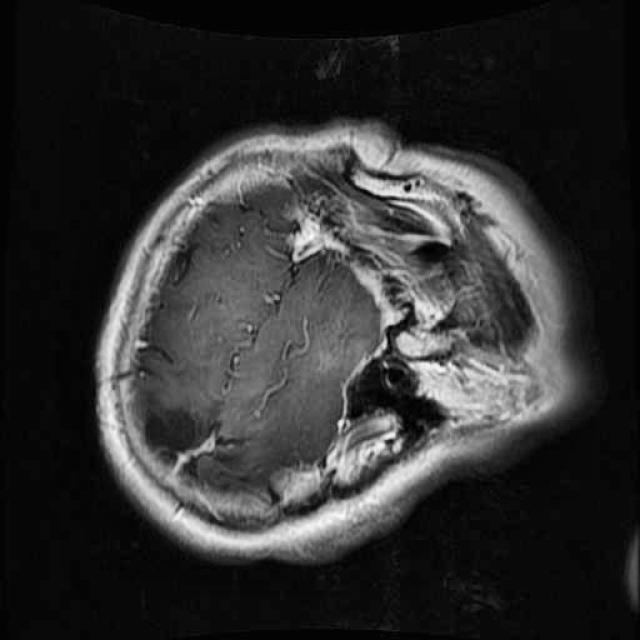Non-Tumor: (118, 381, 254, 494)
